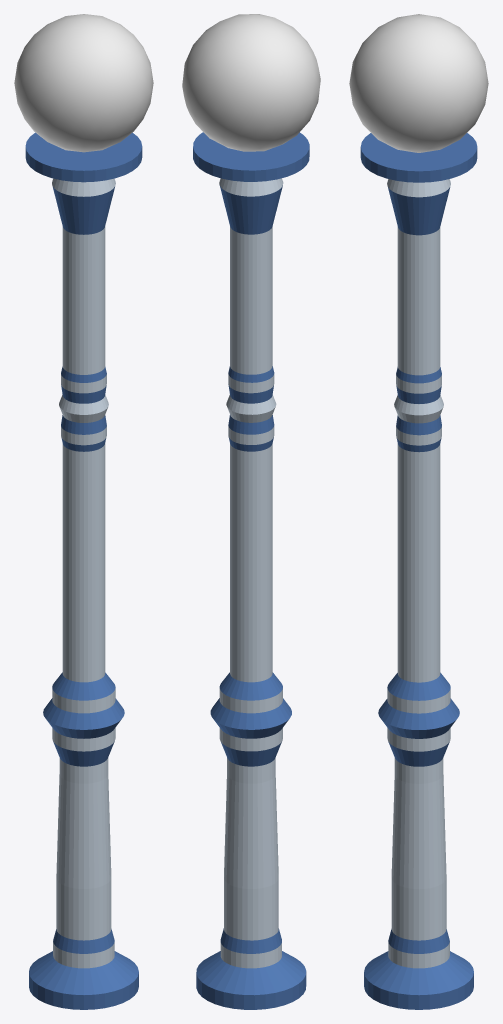
File: LampPostModel05.fbx
3 views of the same model, side by side, from view 1: azimuth 90°, elevation 25°; view 2: azimuth 150°, elevation 25°; view 3: azimuth 270°, elevation 25° (orthographic).
Visible parts, largest first — view 1: LampPost05; view 2: LampPost05; view 3: LampPost05.
Part boxes in pixels (x1,y1,x2,y2): LampPost05: (14, 14, 153, 1009); LampPost05: (182, 14, 320, 1009); LampPost05: (349, 14, 488, 1009).
Bounding box in the file's own units: 94.95 × 727 × 94.95.
